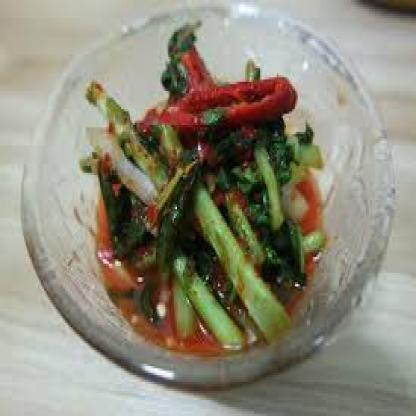young radish Kimchi: (91, 79, 325, 332)
